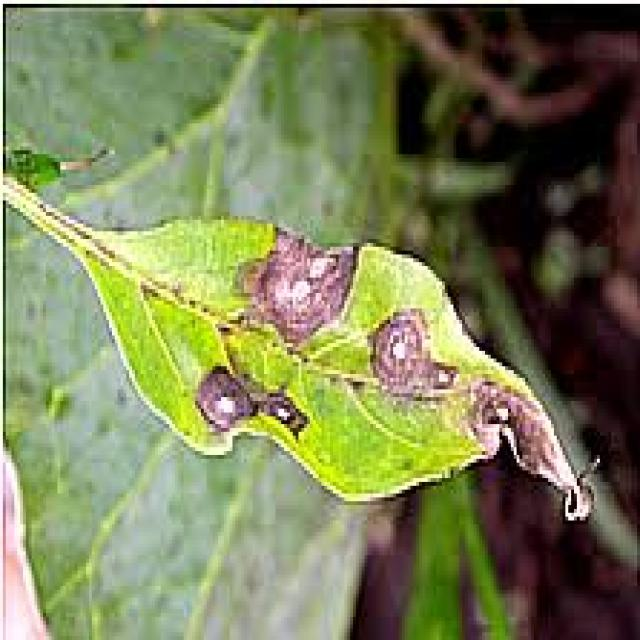bercak_daun: (84, 185, 604, 530)
